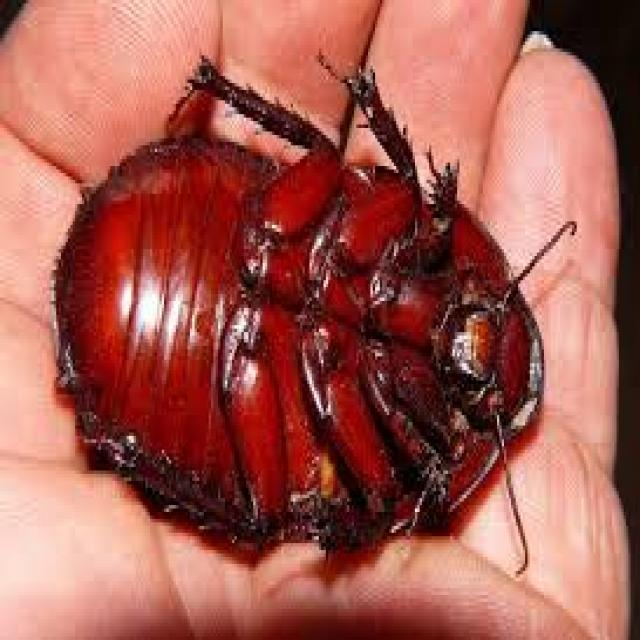Cockroach: (49, 47, 588, 586)
